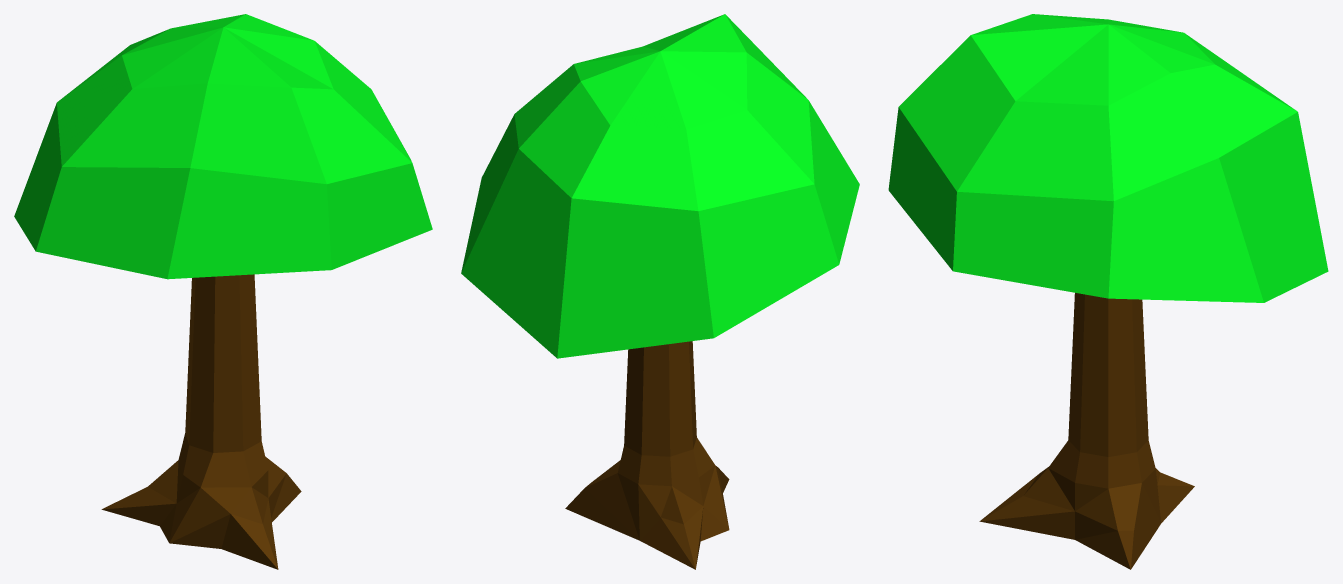
The model's file is Tree3.fbx.
The picture shows the model from 3 angles, left to right: view 1: azimuth 30°, elevation 25°; view 2: azimuth 150°, elevation 25°; view 3: azimuth 270°, elevation 25°; orthographic projection. The views are drawn at different scales.
Parts seen in each view (by area): view 1: Cylinder; view 2: Cylinder; view 3: Cylinder.
Part boxes in pixels (x1=…): Cylinder: x1=14, y1=14, x2=432, y2=569; Cylinder: x1=461, y1=14, x2=859, y2=569; Cylinder: x1=888, y1=14, x2=1328, y2=569.
Size of the model in its own units: 931 by 1171 by 931.
